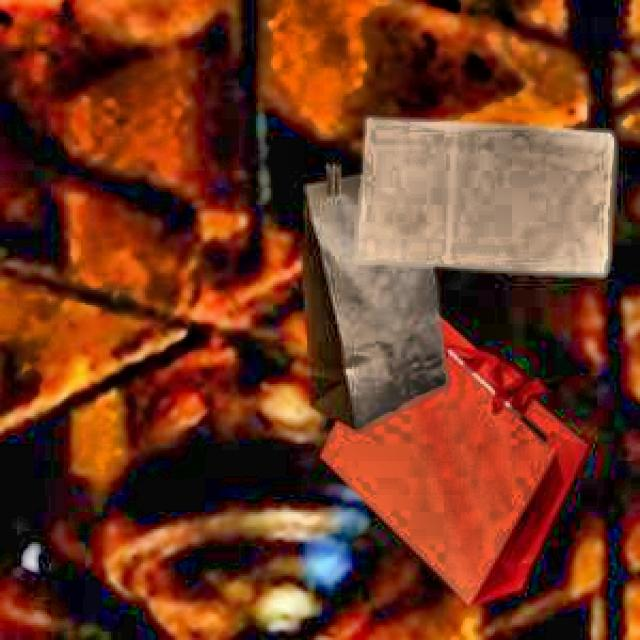Paper-bag: (291, 298, 591, 620), (342, 110, 635, 284), (292, 158, 452, 416)
